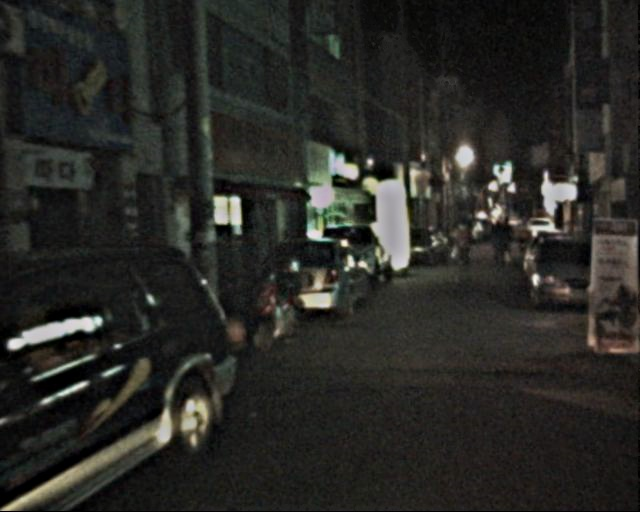person: (456, 219, 484, 274), (494, 217, 515, 269)
